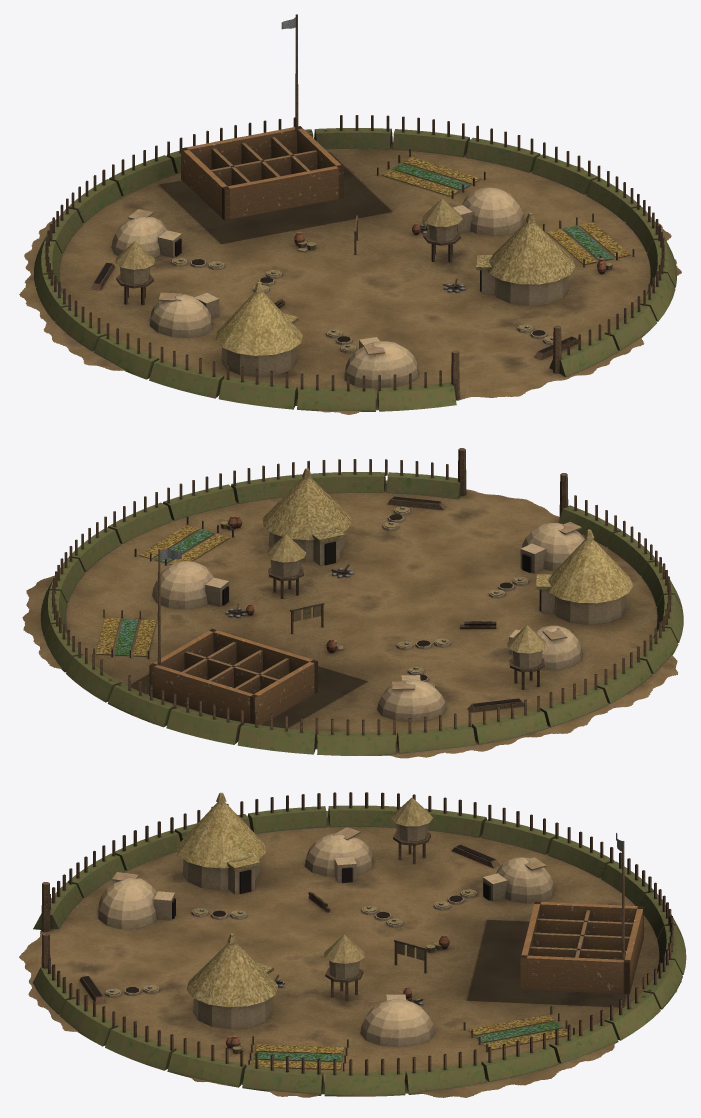
The model's file is stone-town-small-a-nile.glb.
3 views of the same model, one above another, from view 1: azimuth 30°, elevation 25°; view 2: azimuth 150°, elevation 25°; view 3: azimuth 270°, elevation 25° (orthographic). The views are drawn at different scales.
Visible parts, largest first — view 1: LOD0; view 2: LOD0; view 3: LOD0.
Part boxes in pixels (<box>): LOD0: <box>19,14,681,414</box>; LOD0: <box>22,448,683,758</box>; LOD0: <box>19,792,686,1097</box>.
Size of what is drawn, in the model's own units: 3.99 by 0.9709 by 3.83.
3 materials, 3 textured.
